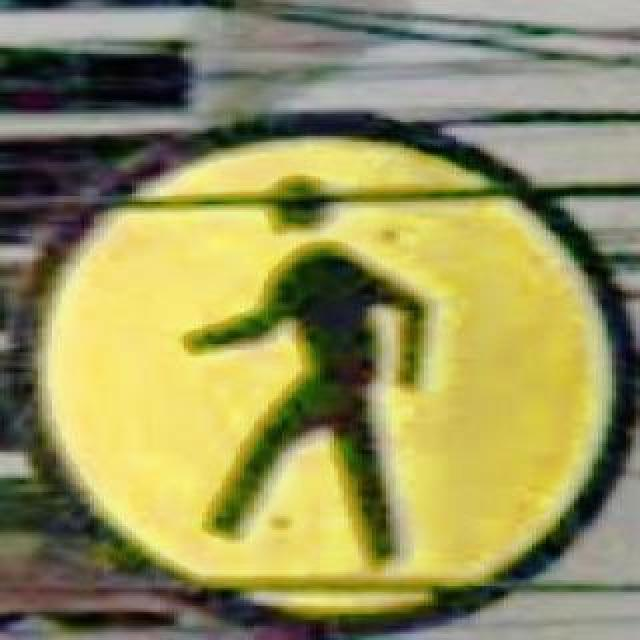pedestrian crossing: (10, 106, 636, 638)
